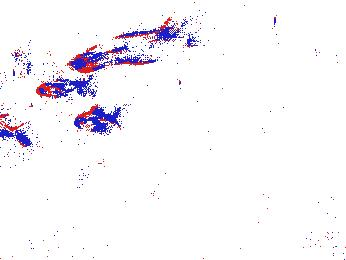X-ray fish: (29, 50, 63, 81), (7, 43, 36, 74)
red belly glassfish: (74, 108, 121, 132), (36, 78, 88, 97), (311, 45, 343, 65)
redtail glassfish: (68, 22, 176, 74)
